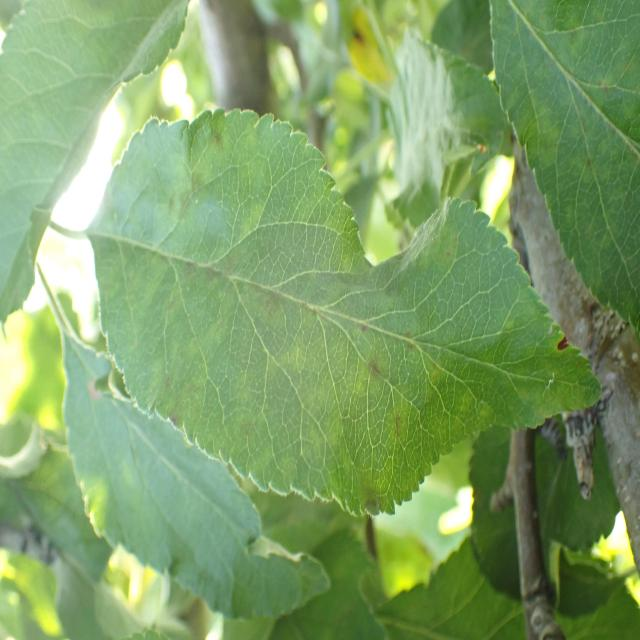scab: (79, 145, 574, 475), (495, 0, 636, 338)
